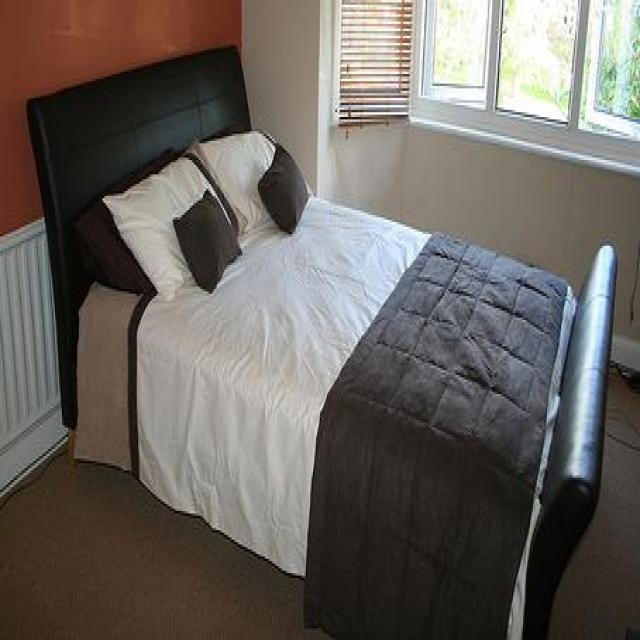bed: (25, 40, 615, 640)
